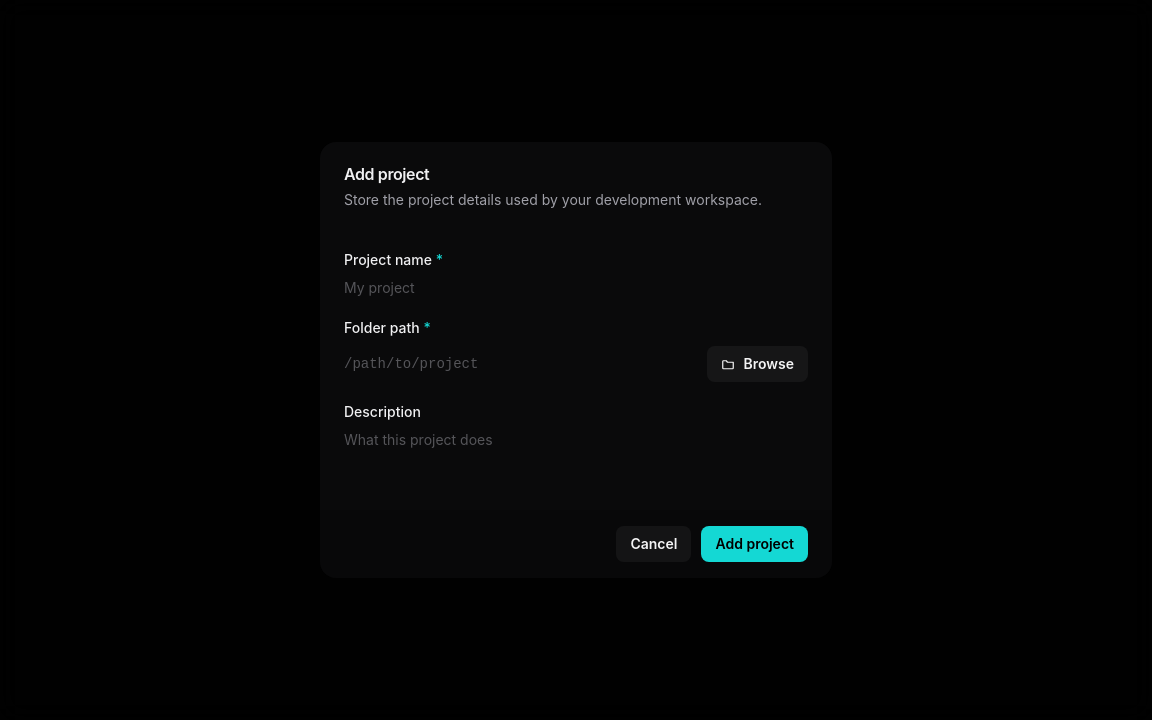
Test: ProjectFormDialog › shows required field errors
Click the button "Add project" at (755, 544), box [702,526,808,562]
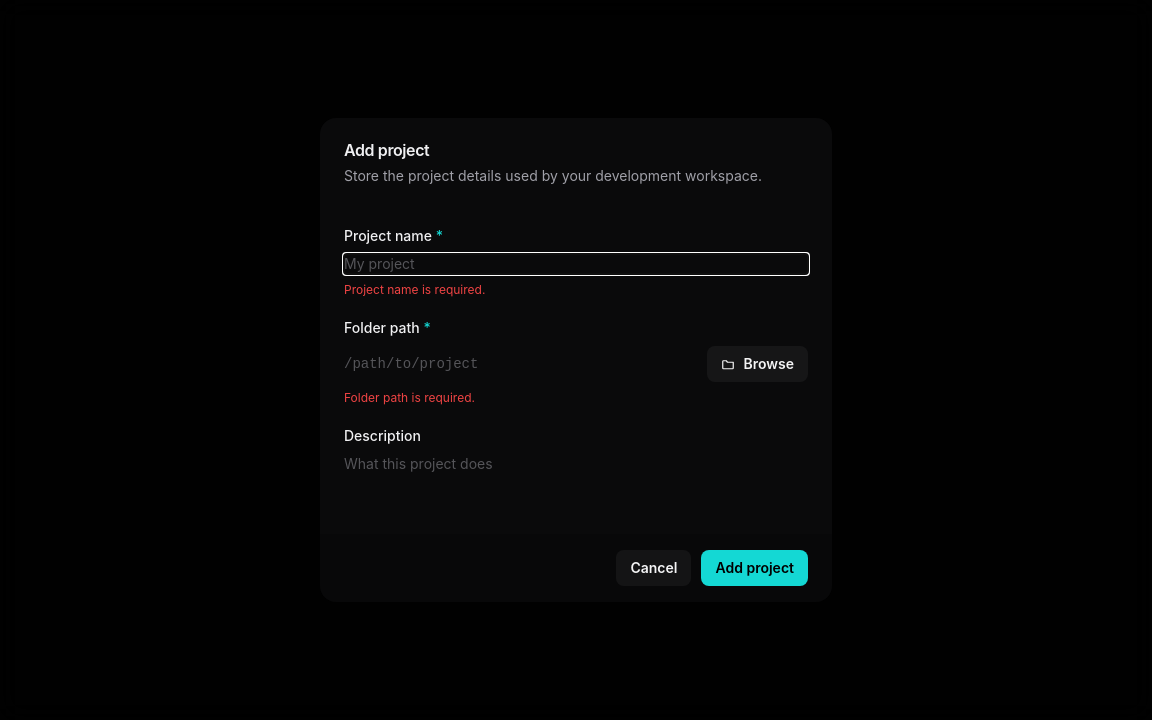
Expected: the text "Project name is required." is shown, [344,282,485,297]
Expected: the text "Folder path is required." is shown, [344,390,475,405]
